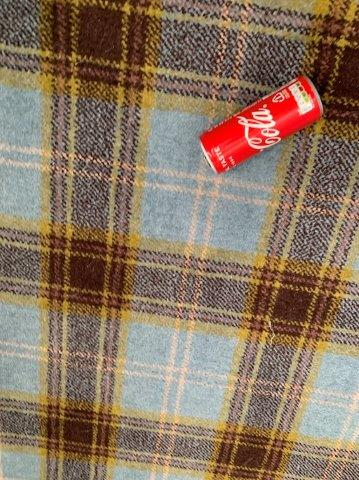kaleng: (201, 76, 322, 175)
